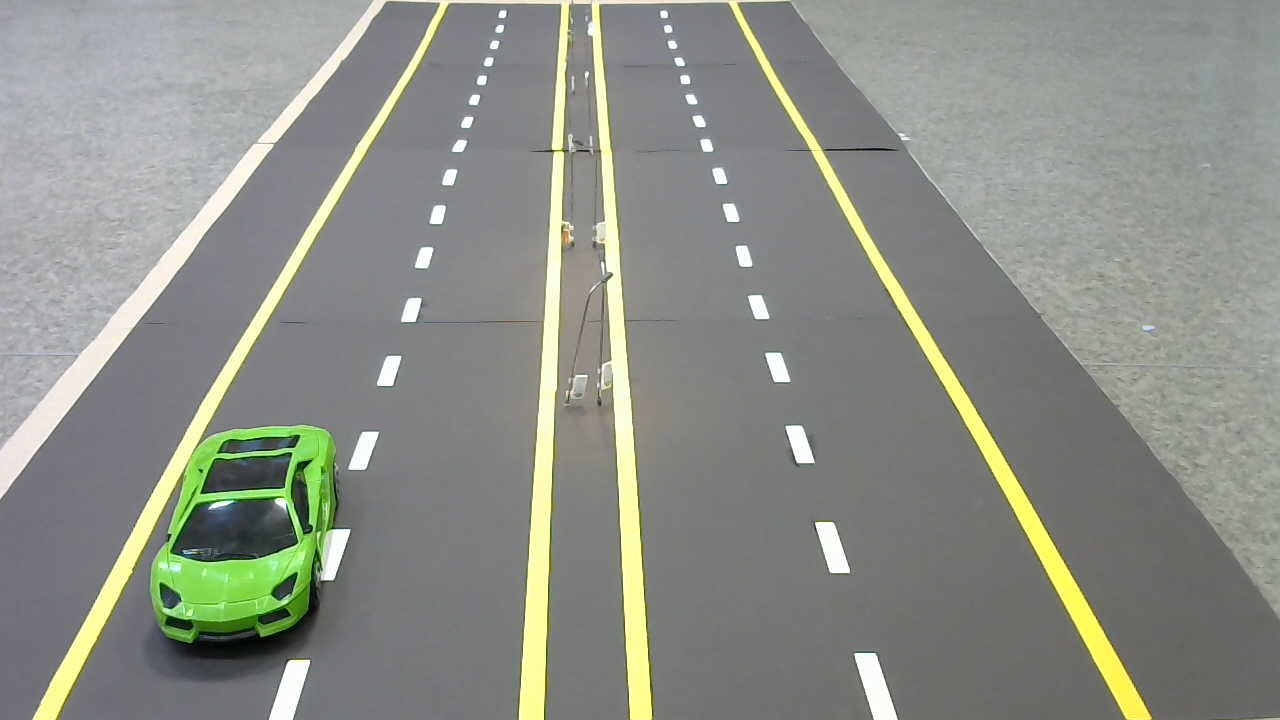front_car: (149, 423, 345, 660)
